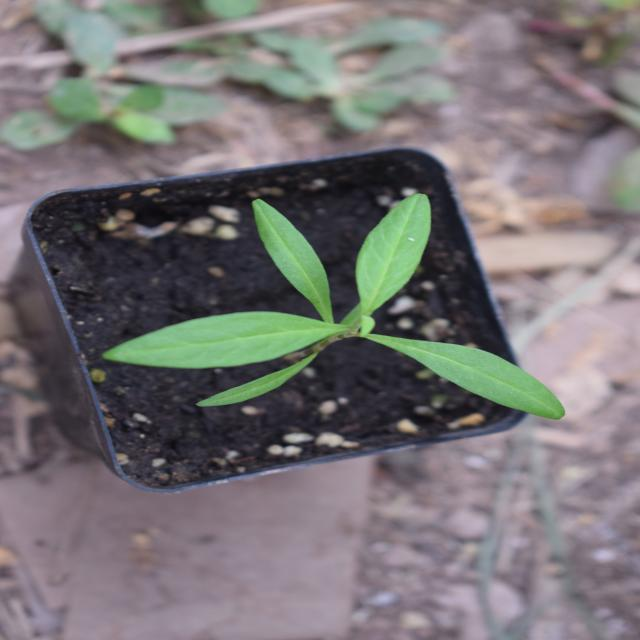white_smart_weed: (173, 40, 458, 543)
